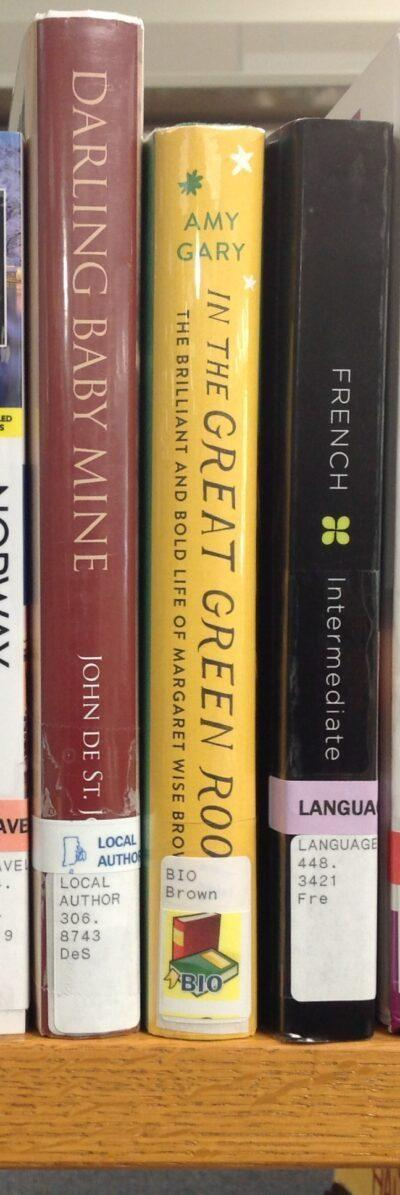call_number: (163, 854, 252, 1019), (291, 833, 377, 1000), (50, 869, 136, 1033)
